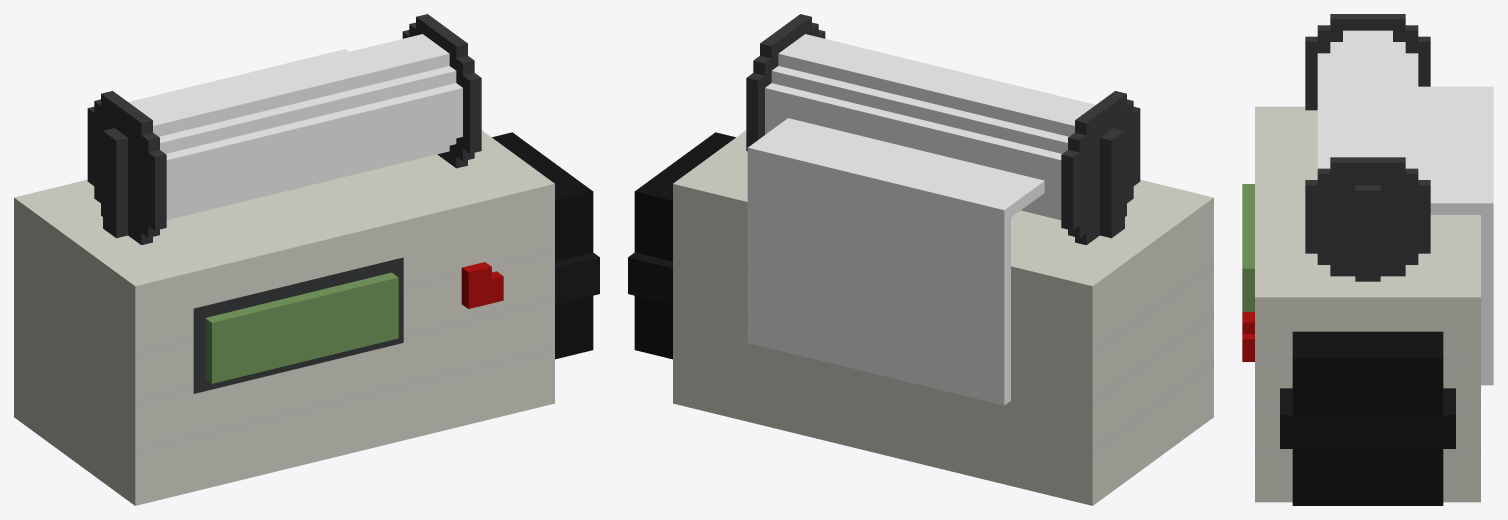
File: resonance_meter.glb
The picture shows the model from 3 angles, left to right: view 1: azimuth 30°, elevation 25°; view 2: azimuth 150°, elevation 25°; view 3: azimuth 270°, elevation 25°; orthographic projection. The views are drawn at different scales.
Parts seen in each view (by area): view 1: resonance_meter:compound; view 2: resonance_meter:compound; view 3: resonance_meter:compound.
Part boxes in pixels (x1,y1,x2,y2): resonance_meter:compound: [14, 14, 599, 505]; resonance_meter:compound: [628, 14, 1213, 505]; resonance_meter:compound: [1242, 14, 1493, 505].
Bounding box in the file's own units: 0.164 × 0.112 × 0.08.
